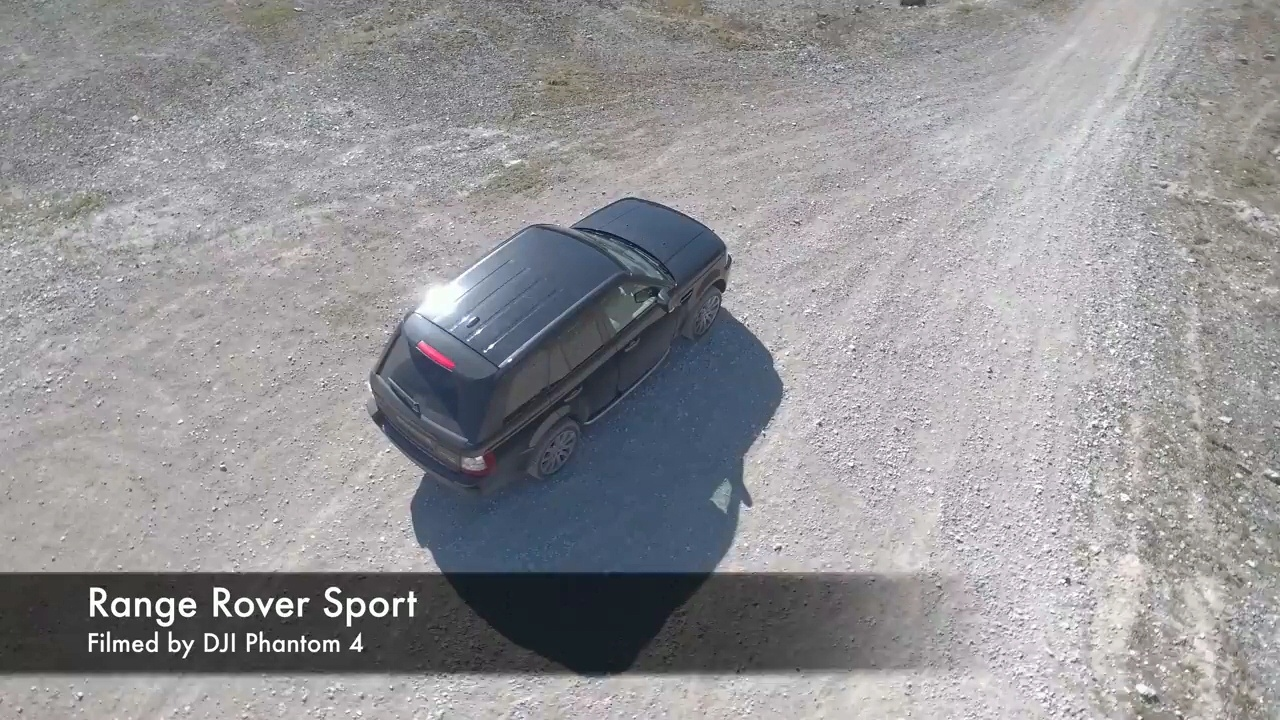araba: (351, 193, 736, 498)
